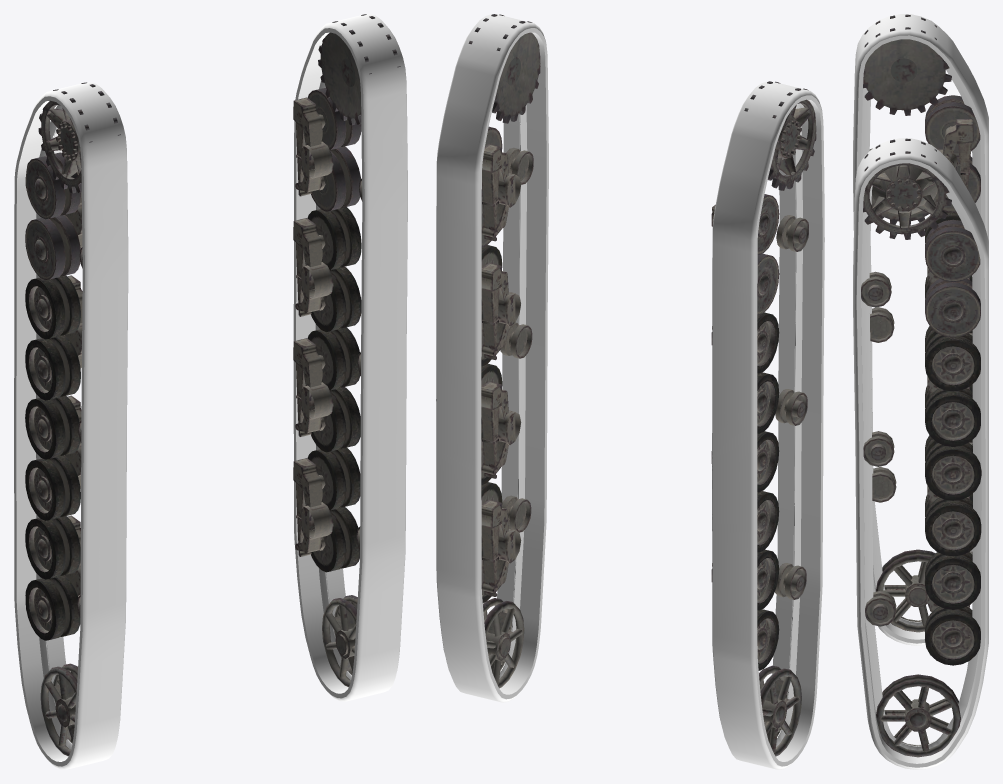
File: Chassis.glb
The picture shows the model from 3 angles, left to right: view 1: azimuth 30°, elevation 25°; view 2: azimuth 150°, elevation 25°; view 3: azimuth 270°, elevation 25°; orthographic projection. The views are drawn at different scales.
Visible parts, largest first — view 1: set_1_group_0, set_0_group_0, set_3_group_0, set_2_group_0; view 2: set_1_group_0, set_0_group_0, set_3_group_0, set_2_group_0; view 3: set_3_group_0, set_0_group_0, set_2_group_0, set_1_group_0.
Part boxes in pixels (x1=…): set_1_group_0: x1=14, y1=82, x2=128, y2=769; set_0_group_0: x1=293, y1=14, x2=407, y2=701; set_3_group_0: x1=293, y1=14, x2=400, y2=686; set_2_group_0: x1=25, y1=82, x2=120, y2=756; set_1_group_0: x1=712, y1=81, x2=824, y2=769; set_0_group_0: x1=436, y1=14, x2=548, y2=702; set_3_group_0: x1=468, y1=14, x2=540, y2=688; set_2_group_0: x1=711, y1=81, x2=816, y2=756; set_3_group_0: x1=861, y1=138, x2=981, y2=757; set_0_group_0: x1=853, y1=138, x2=988, y2=769; set_2_group_0: x1=863, y1=14, x2=980, y2=632; set_1_group_0: x1=853, y1=14, x2=988, y2=645.
Size of the model in its own units: 2.81 by 5.63 by 1.13.
4 materials, 2 textured.
